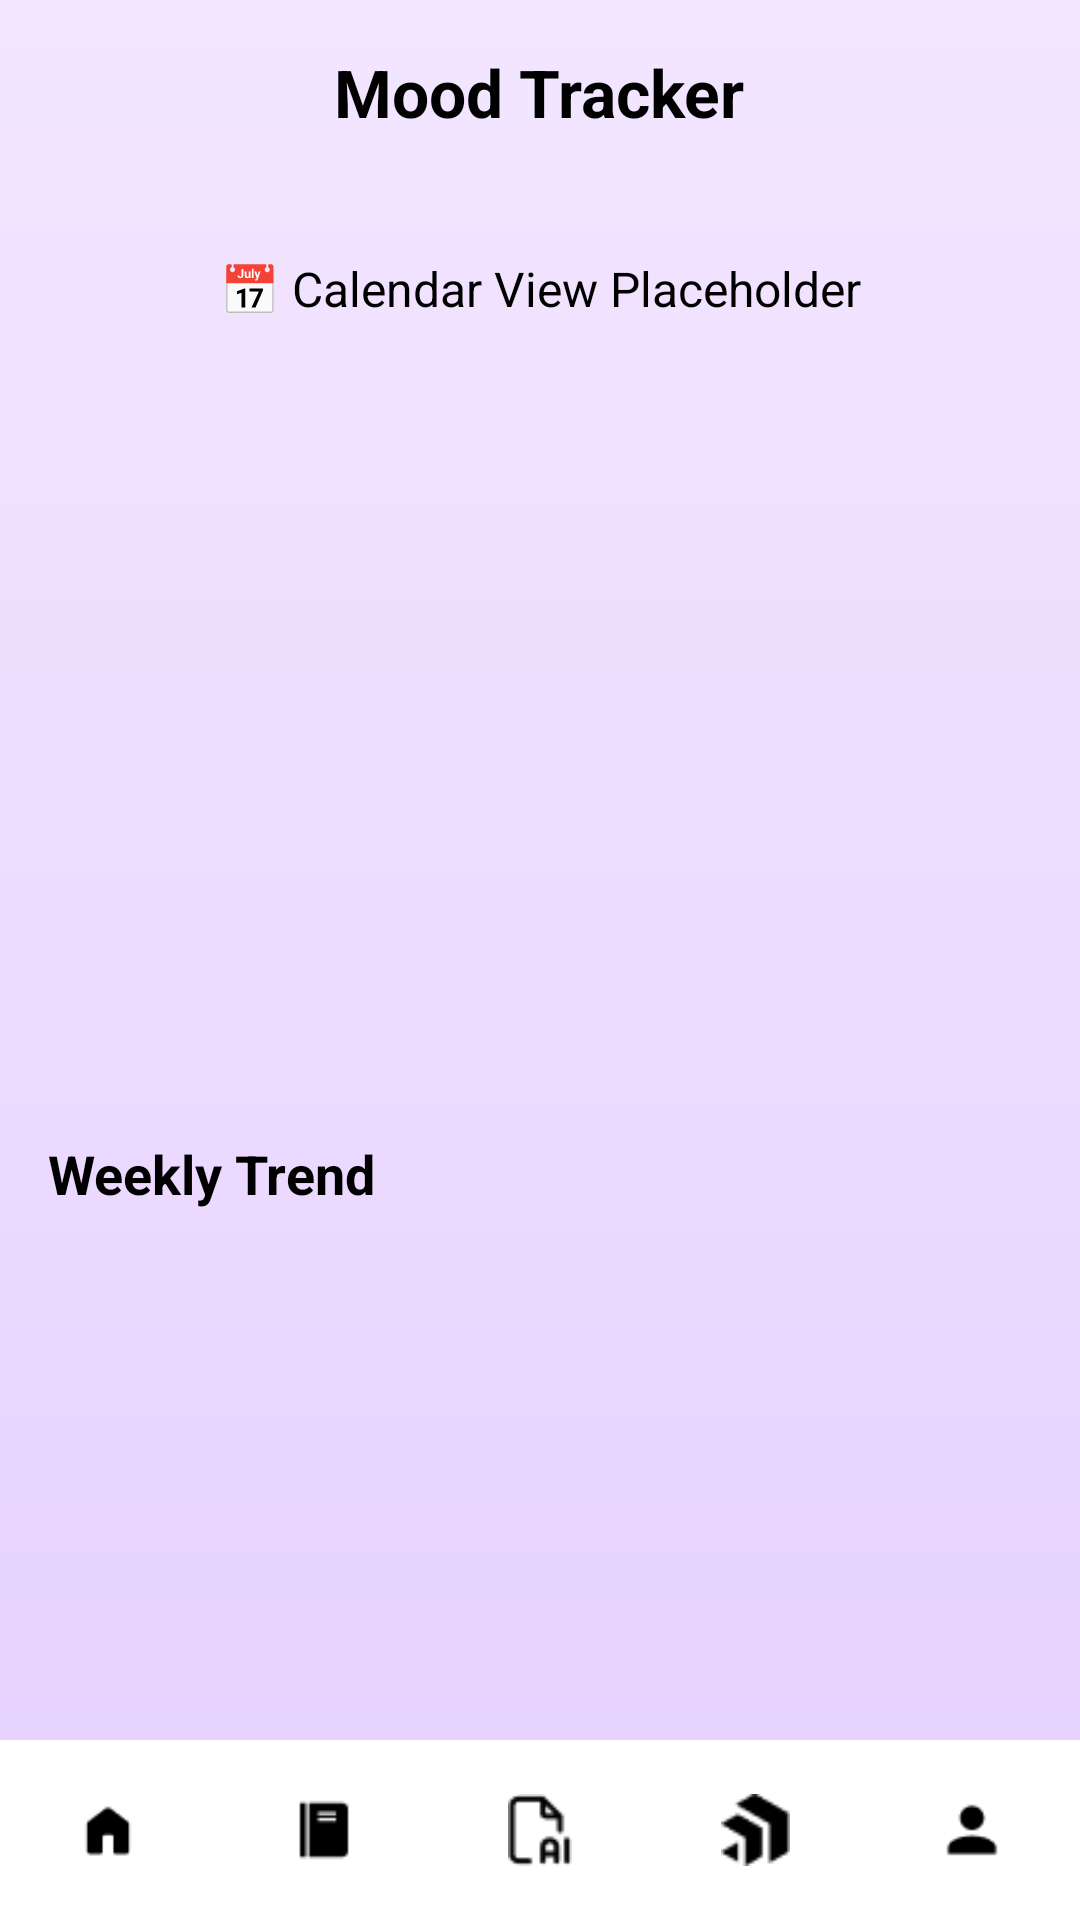

Icons on this 1080w x 1920h Android screen, each with the point to tap as (x,y):
Home: (108,1831)
Journal: (324,1830)
Profile: (972,1830)
